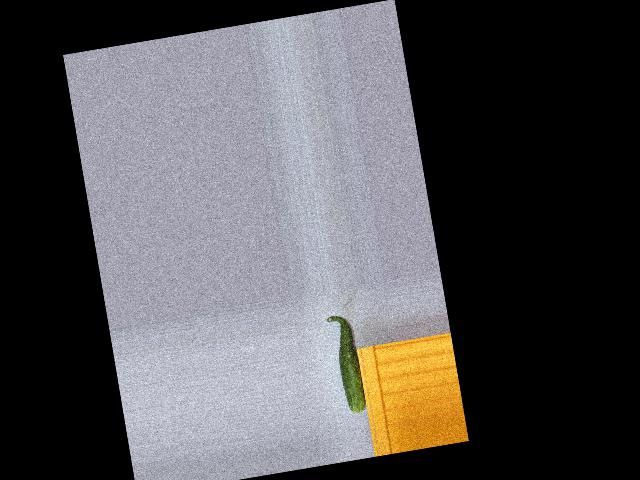cucumber: (326, 312, 367, 414)
